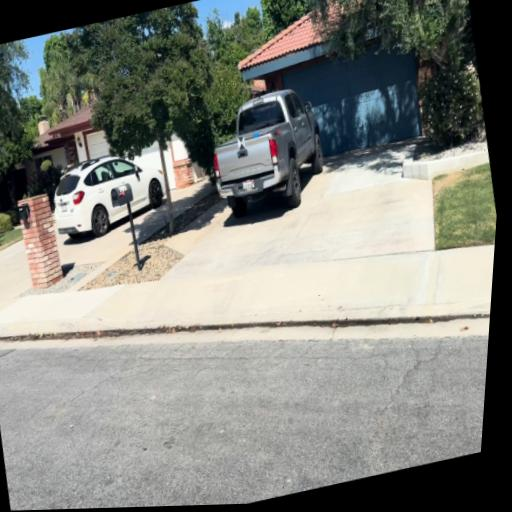target1: (237, 136, 247, 151)
